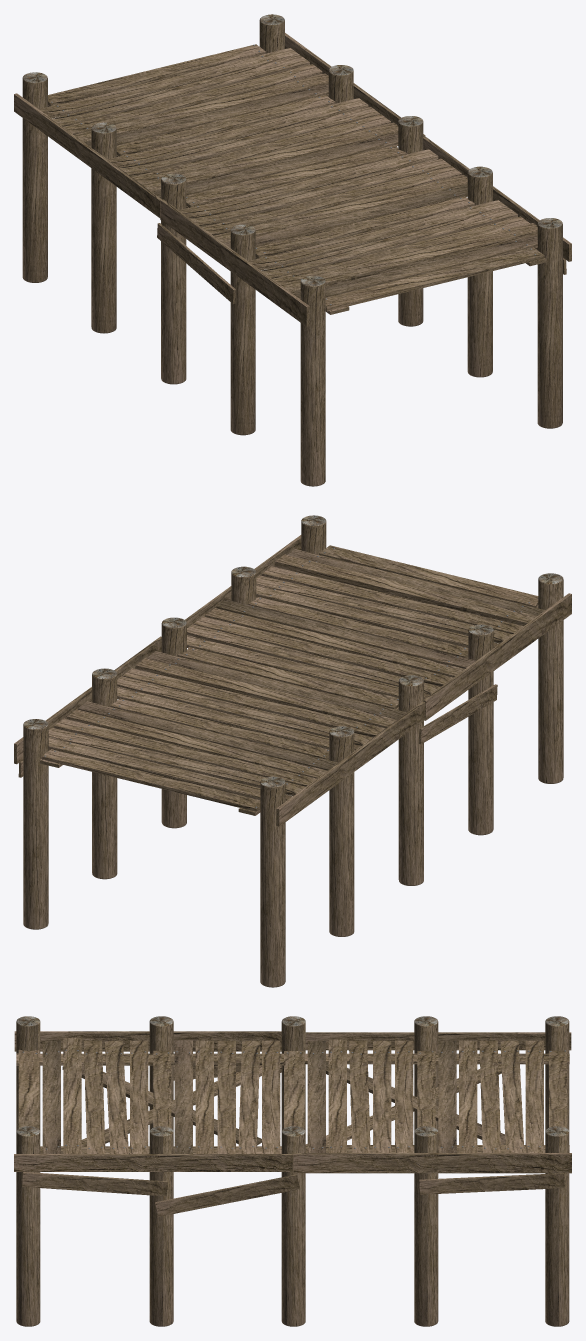
File: bridge_basicdeep.fbx.fbx
3 views of the same model, one above another, from view 1: azimuth 30°, elevation 25°; view 2: azimuth 150°, elevation 25°; view 3: azimuth 270°, elevation 25° (orthographic). The views are drawn at different scales.
Parts seen in each view (by area): view 1: Cylinder.009, Cylinder.008, Cylinder.006, Cylinder.002, Cylinder.005, Cylinder.001, Cylinder.004, Cube.027, Cube.013, Cube.024, Cube.028, Cube.020 (+28 smaller); view 2: Cylinder.007, Cylinder.006, Cylinder.002, Cylinder.008, Cylinder.001, Cylinder.005, Cube.013, Cylinder.003, Cube.027, Cube.001, Cube.028, Cube.022 (+28 smaller); view 3: Cube.026, Cube.025, Cylinder, Cylinder.009, Cylinder.003, Cylinder.007, Cylinder.004, Cube.027, Cube.028, Cube.040, Cube.038, Cube.037 (+36 smaller).
Boxes of the visible parts, x1,y1,x2,y2 form: Cylinder.009: [537, 218, 562, 428]; Cylinder.008: [300, 275, 325, 486]; Cylinder.006: [22, 72, 47, 282]; Cylinder.002: [91, 122, 116, 333]; Cylinder.005: [230, 224, 255, 435]; Cylinder.001: [161, 173, 186, 384]; Cylinder.004: [467, 166, 492, 377]; Cube.027: [160, 199, 309, 326]; Cube.013: [280, 223, 537, 294]; Cube.024: [325, 247, 544, 311]; Cube.028: [14, 93, 161, 217]; Cube.020: [52, 55, 309, 126]; Cylinder.007: [23, 719, 48, 929]; Cylinder.006: [260, 776, 285, 987]; Cylinder.002: [329, 726, 354, 936]; Cylinder.008: [538, 573, 563, 783]; Cylinder.001: [398, 675, 423, 885]; Cylinder.005: [468, 624, 493, 835]; Cube.013: [274, 554, 537, 625]; Cylinder.003: [92, 668, 117, 879]; Cube.027: [423, 593, 571, 720]; Cube.001: [135, 658, 397, 728]; Cube.028: [276, 701, 425, 826]; Cube.022: [66, 709, 327, 778]; Cube.026: [293, 1153, 571, 1173]; Cube.025: [14, 1154, 292, 1171]; Cylinder: [281, 1126, 305, 1326]; Cylinder.009: [16, 1126, 40, 1326]; Cylinder.003: [414, 1126, 438, 1326]; Cylinder.007: [545, 1126, 569, 1326]; Cylinder.004: [149, 1126, 173, 1326]; Cube.027: [14, 1031, 281, 1051]; Cube.028: [305, 1032, 571, 1050]; Cube.040: [419, 1173, 564, 1194]; Cube.038: [22, 1172, 167, 1196]; Cube.037: [155, 1174, 299, 1216].
Size of the model in its own units: 9.16 by 6.63 by 17.55.
Materials: 7 (7 with a texture image).
